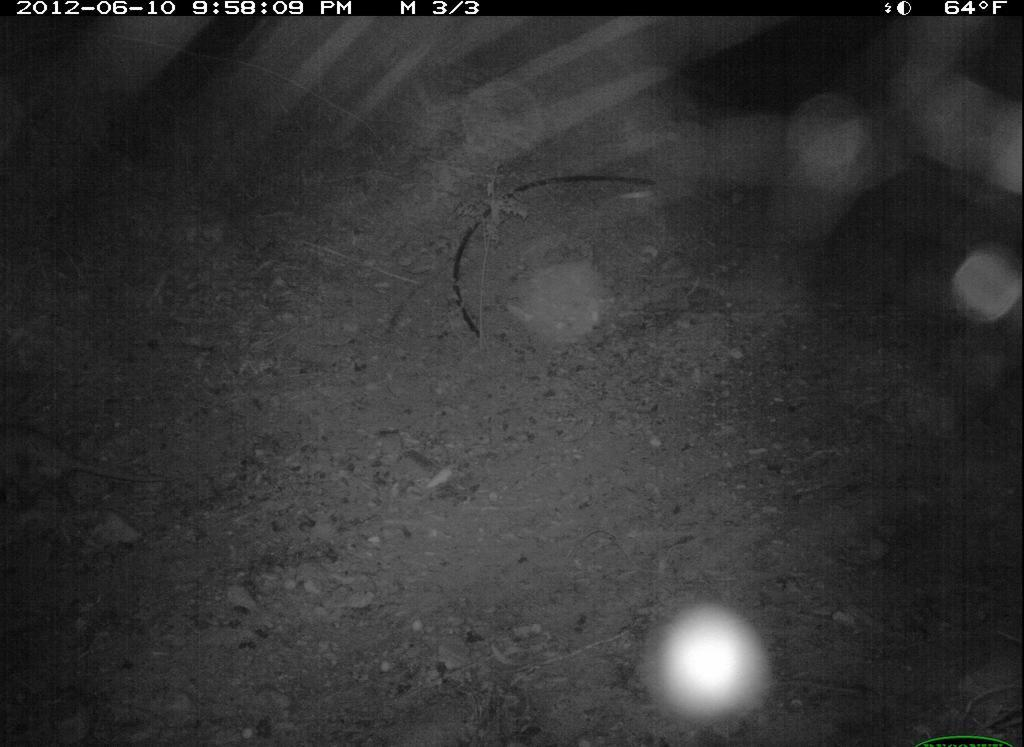opossum: (1, 418, 172, 508)
